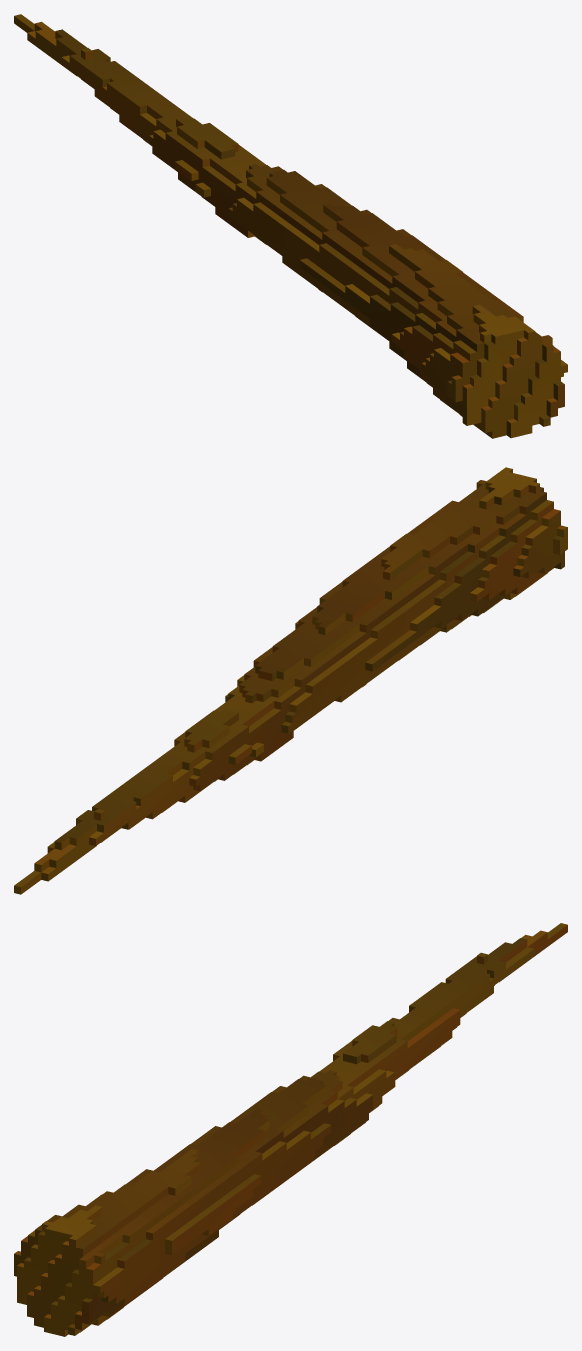
The model's file is pine.fbx.
The picture shows the model from 3 angles, top to bottom: view 1: azimuth 30°, elevation 25°; view 2: azimuth 150°, elevation 25°; view 3: azimuth 330°, elevation 25°; orthographic projection.
Parts seen in each view (by area): view 1: tree.004; view 2: tree.004; view 3: tree.004.
Part boxes in pixels (x1,y1,x2,y2): tree.004: [14, 14, 567, 438]; tree.004: [14, 467, 567, 894]; tree.004: [14, 923, 567, 1336].
Size of the model in its own units: 74.71 by 64.75 by 623.
